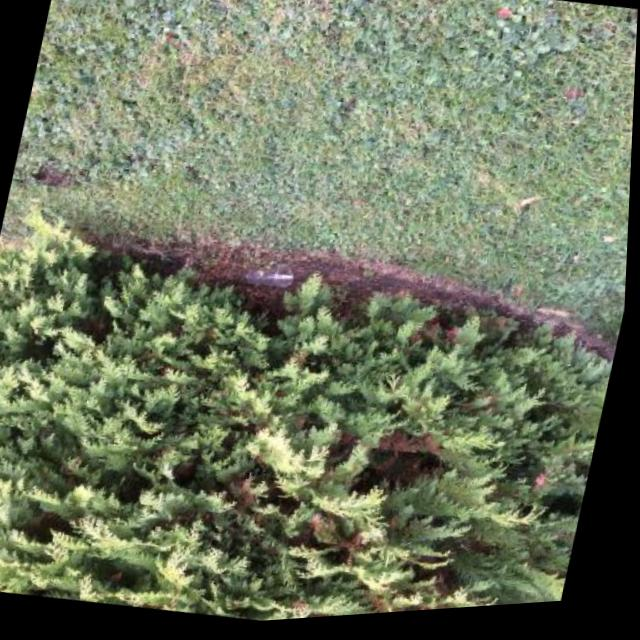plastic: (243, 257, 296, 291)
